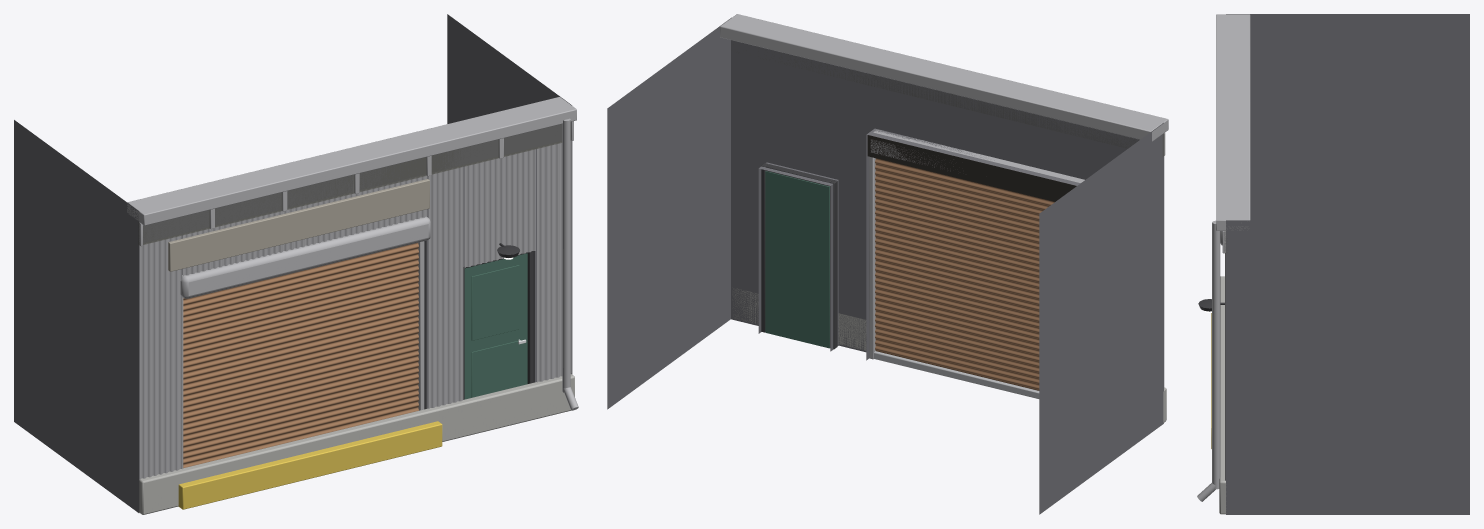
The model's file is warehouse_6a.glb.
3 views of the same model, side by side, from view 1: azimuth 30°, elevation 25°; view 2: azimuth 150°, elevation 25°; view 3: azimuth 270°, elevation 25° (orthographic). The views are drawn at different scales.
Parts seen in each view (by area): view 1: warehouse_6a; view 2: warehouse_6a; view 3: warehouse_6a.
Part boxes in pixels (<box>): warehouse_6a: <box>14,14,578,514</box>; warehouse_6a: <box>607,14,1168,514</box>; warehouse_6a: <box>1197,14,1469,514</box>.
Bounding box in the file's own units: 6 × 4 × 3.36.
